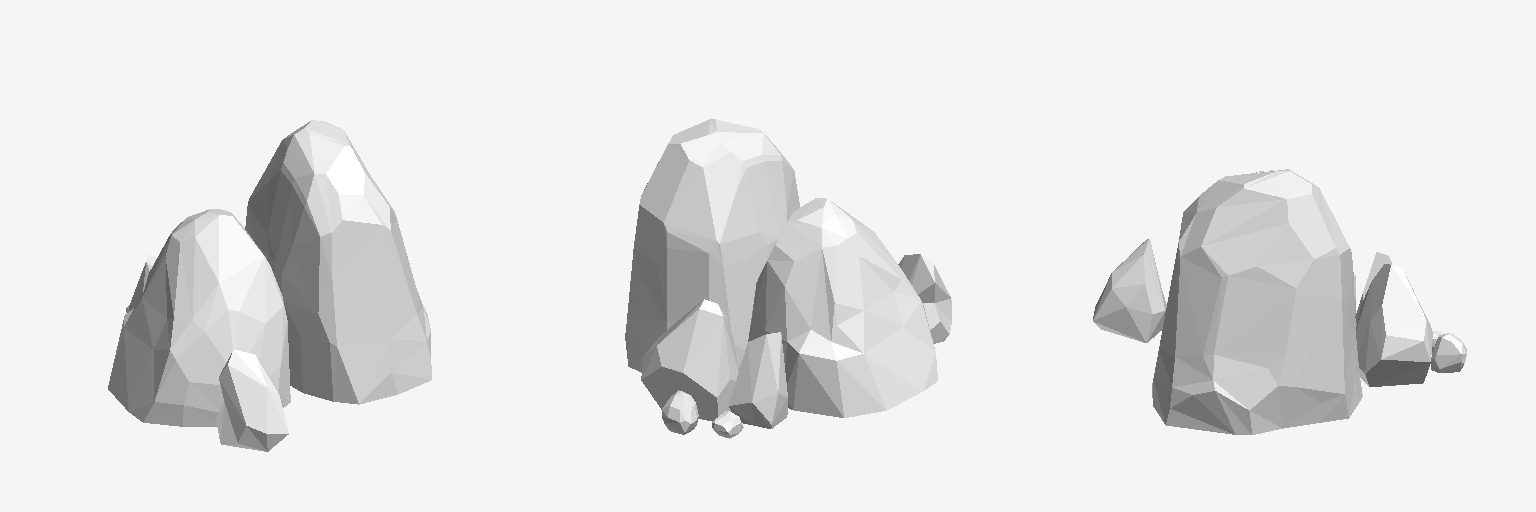
The model's file is rock.obj.
3 views of the same model, side by side, from view 1: azimuth 30°, elevation 25°; view 2: azimuth 150°, elevation 25°; view 3: azimuth 270°, elevation 25° (orthographic).
Visible parts, largest first — view 1: Object.2, Object.1, Object.7; view 2: Object.1, Object.2, Object.5, Object.6, Object.7, Object.3, Object.4; view 3: Object.2, Object.5, Object.7, Object.3.
Boxes of the visible parts, <box> form: Object.2: <box>245,120,431,404</box>; Object.1: <box>108,209,290,426</box>; Object.7: <box>216,350,288,451</box>; Object.1: <box>748,198,937,417</box>; Object.2: <box>625,119,799,372</box>; Object.5: <box>641,299,738,421</box>; Object.6: <box>729,332,787,428</box>; Object.7: <box>898,254,951,343</box>; Object.3: <box>662,390,698,434</box>; Object.4: <box>712,411,743,438</box>; Object.2: <box>1152,169,1362,434</box>; Object.5: <box>1356,264,1432,386</box>; Object.7: <box>1093,238,1166,342</box>; Object.3: <box>1431,333,1466,372</box>.
Bounding box in the file's own units: 32.17 × 24.16 × 36.87.